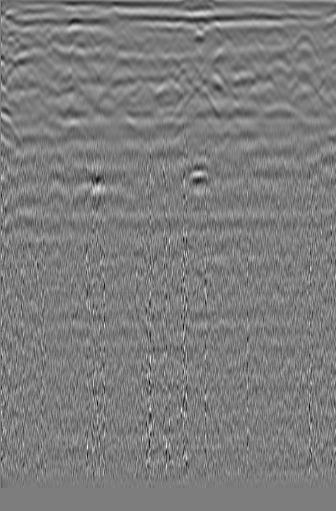상수: (285, 28, 320, 62)
오수: (5, 28, 44, 63)
우수: (139, 35, 171, 64)
